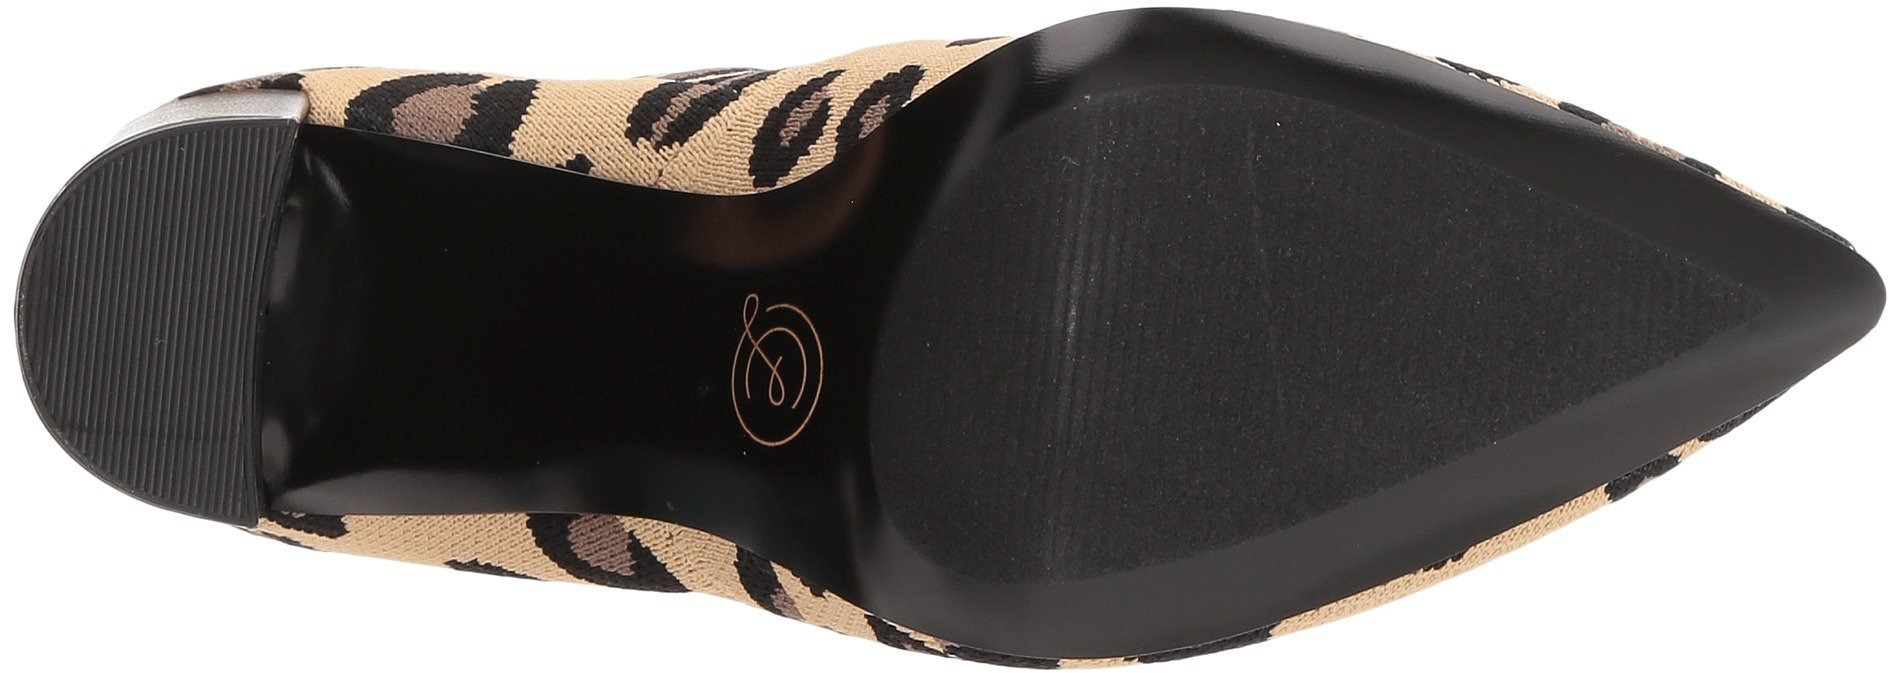other: (885, 264, 1155, 526), (1167, 244, 1420, 486), (1435, 193, 1628, 371), (81, 327, 242, 483), (82, 178, 248, 324), (1097, 96, 1257, 240), (1261, 124, 1391, 242)
